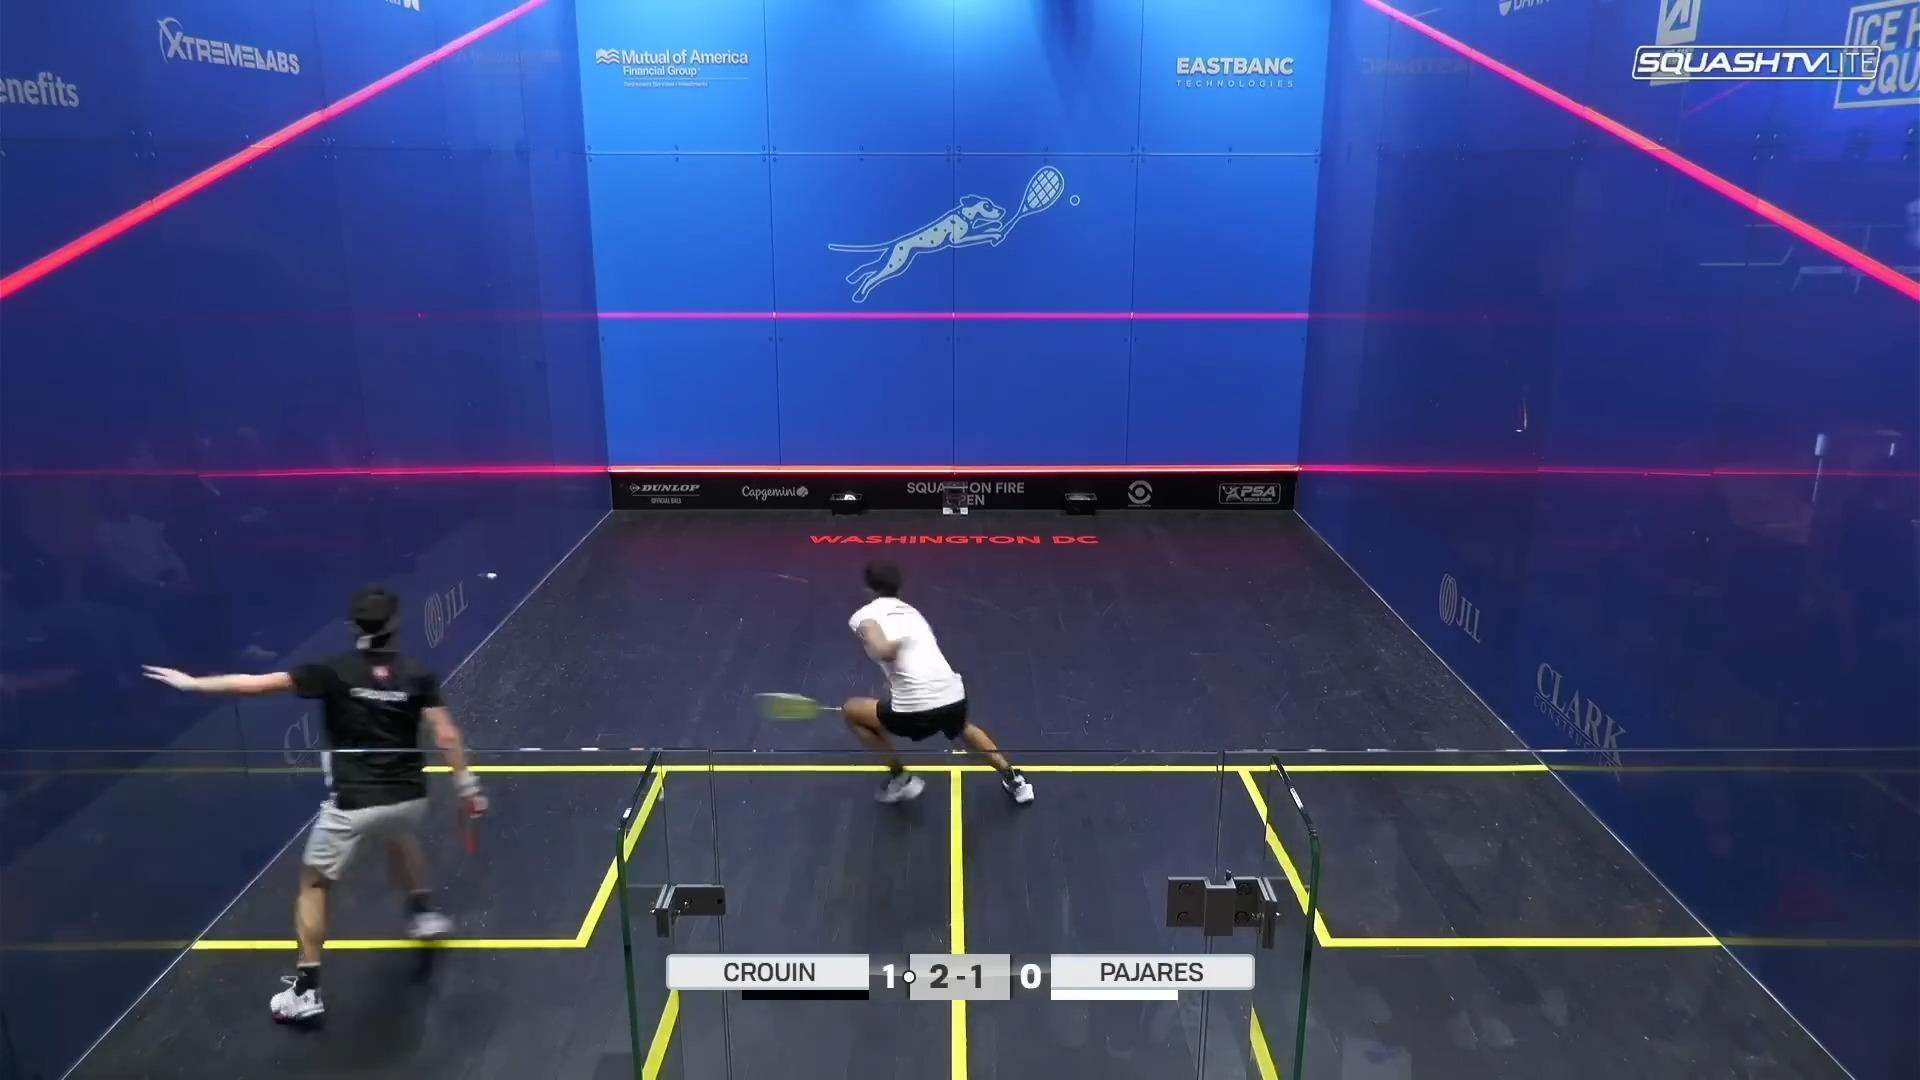Squash-Ball: (476, 555, 509, 600)
